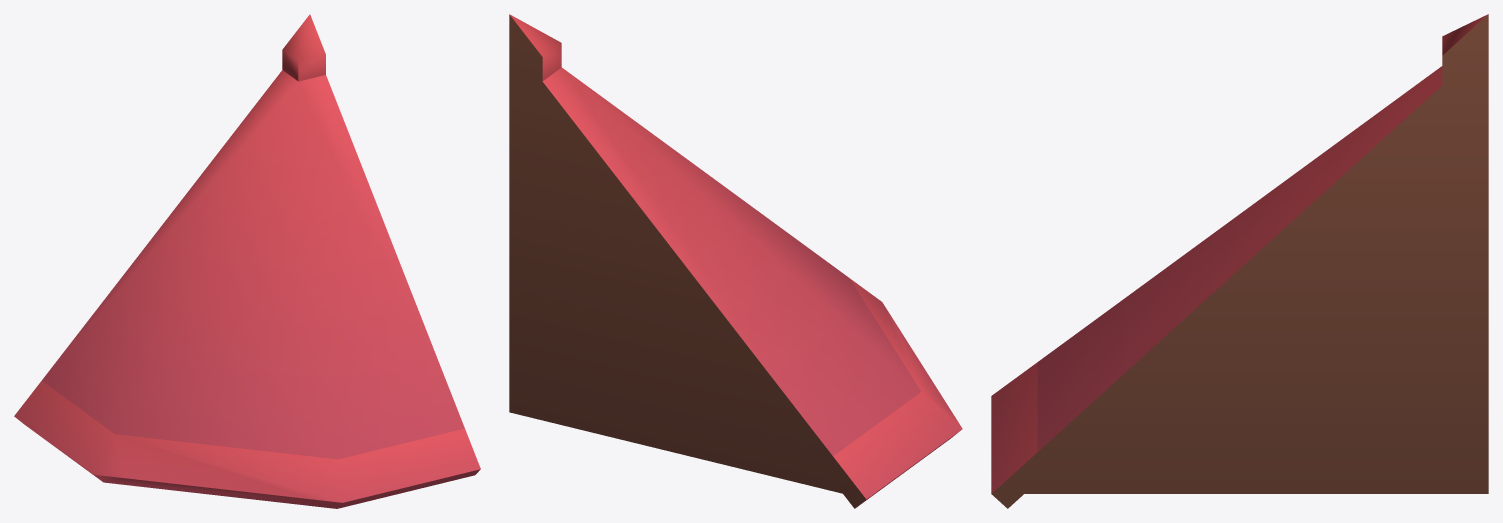
The model's file is roof-kn-roof-high-corner-round.glb.
3 views of the same model, side by side, from view 1: azimuth 30°, elevation 25°; view 2: azimuth 150°, elevation 25°; view 3: azimuth 270°, elevation 25° (orthographic). The views are drawn at different scales.
Visible parts, largest first — view 1: roof-high-corner-round; view 2: roof-high-corner-round; view 3: roof-high-corner-round.
Part boxes in pixels (<box>): roof-high-corner-round: <box>14,14,480,508</box>; roof-high-corner-round: <box>509,14,962,508</box>; roof-high-corner-round: <box>991,14,1488,508</box>.
Bounding box in the file's own units: 3.21 × 3.53 × 3.21.
1 material, 1 textured.
